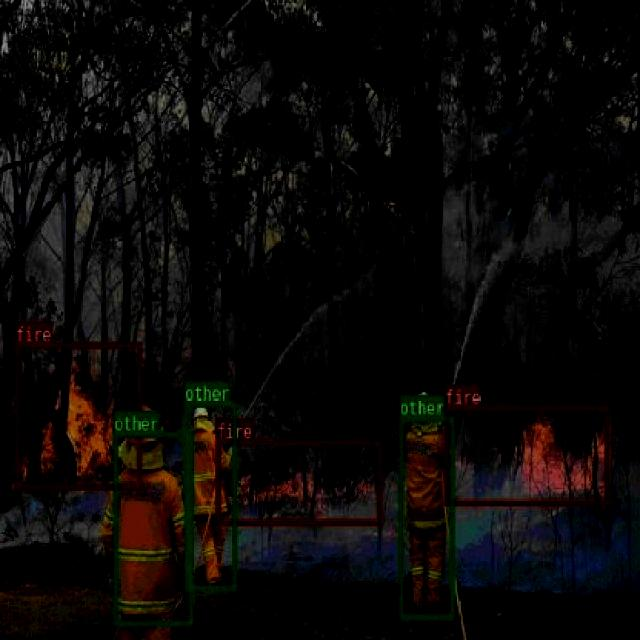fire: (15, 342, 140, 489), (443, 404, 608, 504), (214, 438, 380, 524)
